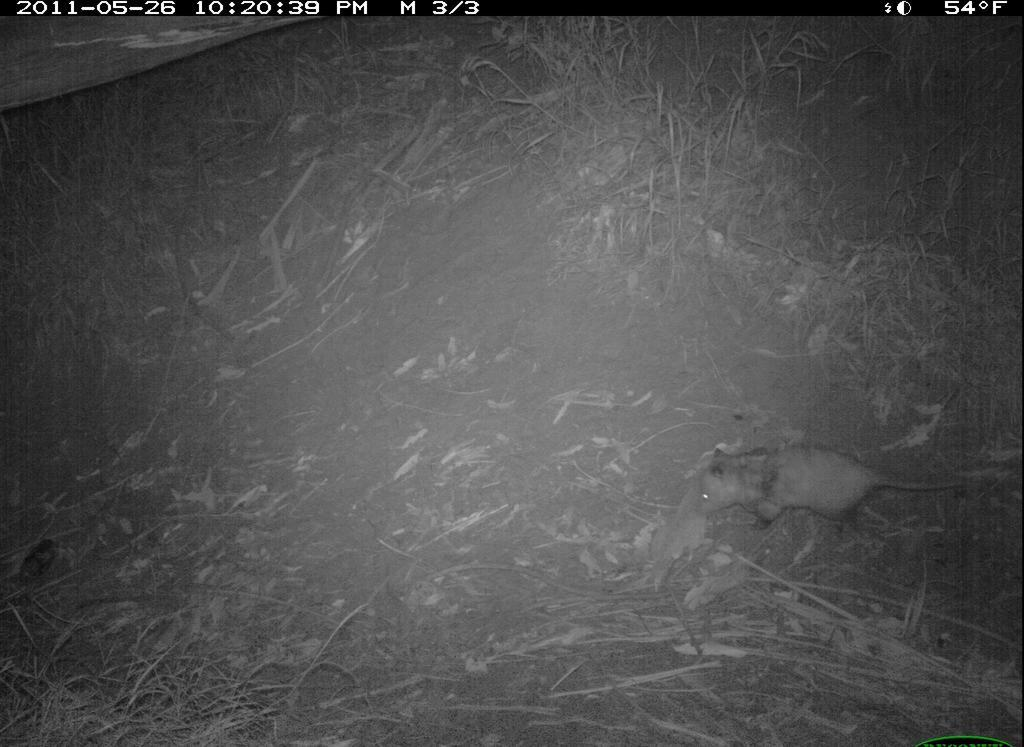opossum: (690, 432, 985, 533)
